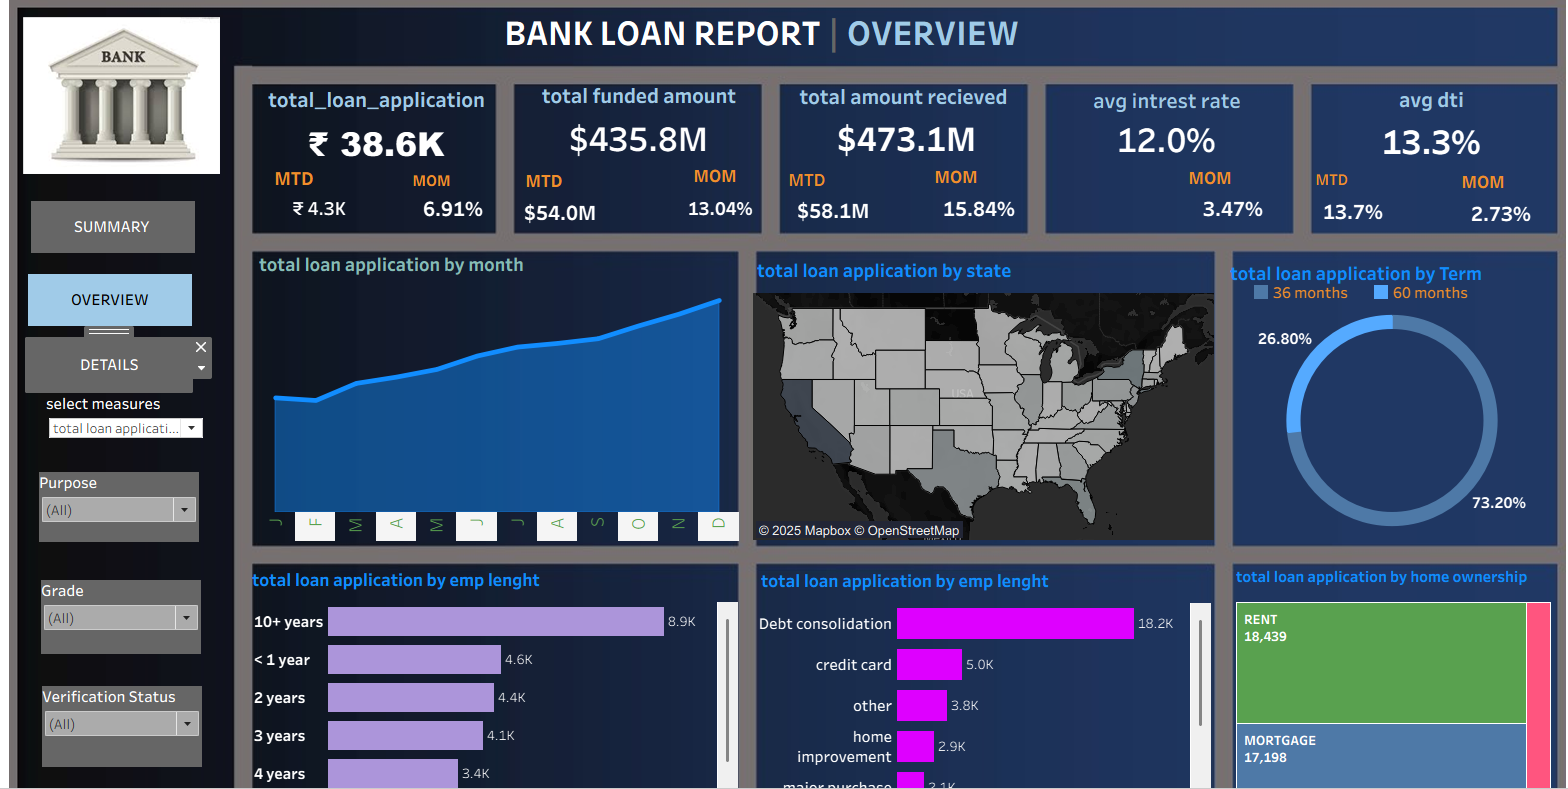

The page's visual inventory and layout, read from the dashboard file:
{"tool":"tableau","page":{"name":"OVERVIEW","canvas":[1600,900],"ordinal":1},"visuals":[{"type":"image","param":"C:/Users/HP/Downloads/Tableau Background 2.jpg","box":[8,8,1584,884]},{"type":"text","box":[513,23,541,45]},{"type":"image","param":"C:/Users/HP/AppData/Local/Temp/TableauTemp/1usxecd0y1ci5519p6f4o0lbw4ct/Sheets1/","box":[35,24,197,171]},{"type":"worksheet","title":"total funded amount","mark":"Automatic","box":[529,91,244,80]},{"type":"worksheet","title":"total amount recieved","mark":"Automatic","box":[792,92,247,79]},{"type":"worksheet","title":"total_loan_application","mark":"Automatic","box":[267,95,243,83]},{"type":"worksheet","title":"avg dti","mark":"Automatic","box":[1322,95,243,78]},{"type":"worksheet","title":"avg intrest rate","mark":"Automatic","box":[1054,96,250,72]},{"type":"text","box":[702,174,100,30]},{"type":"text","box":[943,175,100,30]},{"type":"text","box":[1197,176,100,30]},{"type":"text","box":[283,177,100,30]},{"type":"text","box":[797,178,100,30]},{"type":"text","box":[1324,178,100,30]},{"type":"text","box":[421,179,100,30]},{"type":"text","box":[534,179,100,30]},{"type":"text","box":[1470,180,100,30]},{"type":"worksheet","title":"MOM funded amount","mark":"Automatic","box":[696,202,73,41]},{"type":"worksheet","title":"MOM amount recieved","mark":"Automatic","box":[949,206,84,32]},{"type":"worksheet","title":"MTD loan application","mark":"Automatic","box":[288,207,86,31]},{"type":"worksheet","title":"MTD amount recieved","mark":"Automatic","box":[796,208,95,33]},{"type":"worksheet","title":"MTD avg DTI","mark":"Automatic","box":[1322,208,86,35]},{"type":"worksheet","title":"MOM loan application ","mark":"Automatic","box":[424,209,82,27]},{"type":"worksheet","title":"MOM avg int rate","mark":"Automatic","box":[1195,209,100,27]},{"type":"worksheet","title":"MOM avg dti","mark":"Automatic","box":[1466,210,94,35]},{"type":"worksheet","title":"MTD funded amount","mark":"Automatic","box":[527,212,92,28]},{"type":"dashboard-object","box":[43,215,164,52]},{"type":"worksheet","title":"MONTH","mark":"Area","rows":["Calculation_1095782142316924932","Calculation_1095782142316924932"],"cols":["issue_date"],"box":[267,261,484,294]},{"type":"worksheet","title":"state","mark":"Automatic","box":[765,267,461,287]},{"type":"worksheet","title":"Term","mark":"Pie","rows":["Calculation_1095782142329581574","Calculation_1095782142329581574"],"box":[1238,270,332,289]},{"type":"dashboard-object","box":[40,288,164,52]},{"type":"legend","title":"Term","param":"[federated.120kebf0at2c3s12benhf1fhnnxb].[none:term:nk]","box":[1263,296,263,28]},{"type":"dashboard-object","box":[39,353,164,52]},{"type":"parameter","param":"[Parameters].[Parameter 1]","box":[58,407,160,48]},{"type":"filter","title":"MOM amount recieved","param":"[federated.120kebf0at2c3s12benhf1fhnnxb].[none:purpose:nk]","box":[51,486,160,70]},{"type":"worksheet","title":"home own","mark":"Automatic","box":[1244,576,322,277]},{"type":"worksheet","title":"emp length","mark":"Automatic","rows":["emp_length"],"cols":["Calculation_1095782142316924932"],"box":[260,578,490,299]},{"type":"worksheet","title":"purpose","mark":"Automatic","rows":["purpose"],"cols":["Calculation_1095782142316924932"],"box":[769,579,454,301]},{"type":"filter","title":"MOM amount recieved","param":"[federated.120kebf0at2c3s12benhf1fhnnxb].[none:grade:nk]","box":[53,594,160,74]},{"type":"filter","title":"MOM amount recieved","param":"[federated.120kebf0at2c3s12benhf1fhnnxb].[none:verification_status:nk]","box":[54,700,160,81]}]}

Visuals, with their boxes on the page's 1600x900 design canvas (x1, y1, x2, y2). These are canvas units, not pixel positions in the 1568x789 screenshot, which may show the page scaled, cropped or inside an application window:
image: pyautogui.locateOnScreen(8, 8, 1592, 892)
text: pyautogui.locateOnScreen(513, 23, 1054, 68)
image: pyautogui.locateOnScreen(35, 24, 232, 195)
"total funded amount" worksheet: pyautogui.locateOnScreen(529, 91, 773, 171)
"total amount recieved" worksheet: pyautogui.locateOnScreen(792, 92, 1039, 171)
"total_loan_application" worksheet: pyautogui.locateOnScreen(267, 95, 510, 178)
"avg dti" worksheet: pyautogui.locateOnScreen(1322, 95, 1565, 173)
"avg intrest rate" worksheet: pyautogui.locateOnScreen(1054, 96, 1304, 168)
text: pyautogui.locateOnScreen(702, 174, 802, 204)
text: pyautogui.locateOnScreen(943, 175, 1043, 205)
text: pyautogui.locateOnScreen(1197, 176, 1297, 206)
text: pyautogui.locateOnScreen(283, 177, 383, 207)
text: pyautogui.locateOnScreen(797, 178, 897, 208)
text: pyautogui.locateOnScreen(1324, 178, 1424, 208)
text: pyautogui.locateOnScreen(421, 179, 521, 209)
text: pyautogui.locateOnScreen(534, 179, 634, 209)
text: pyautogui.locateOnScreen(1470, 180, 1570, 210)
"MOM funded amount" worksheet: pyautogui.locateOnScreen(696, 202, 769, 243)
"MOM amount recieved" worksheet: pyautogui.locateOnScreen(949, 206, 1033, 238)
"MTD loan application" worksheet: pyautogui.locateOnScreen(288, 207, 374, 238)
"MTD amount recieved" worksheet: pyautogui.locateOnScreen(796, 208, 891, 241)
"MTD avg DTI" worksheet: pyautogui.locateOnScreen(1322, 208, 1408, 243)
"MOM loan application " worksheet: pyautogui.locateOnScreen(424, 209, 506, 236)
"MOM avg int rate" worksheet: pyautogui.locateOnScreen(1195, 209, 1295, 236)
"MOM avg dti" worksheet: pyautogui.locateOnScreen(1466, 210, 1560, 245)
"MTD funded amount" worksheet: pyautogui.locateOnScreen(527, 212, 619, 240)
dashboard-object: pyautogui.locateOnScreen(43, 215, 207, 267)
"MONTH" worksheet (Area marks): pyautogui.locateOnScreen(267, 261, 751, 555)
"state" worksheet: pyautogui.locateOnScreen(765, 267, 1226, 554)
"Term" worksheet (Pie marks): pyautogui.locateOnScreen(1238, 270, 1570, 559)
dashboard-object: pyautogui.locateOnScreen(40, 288, 204, 340)
"Term" legend: pyautogui.locateOnScreen(1263, 296, 1526, 324)
dashboard-object: pyautogui.locateOnScreen(39, 353, 203, 405)
parameter: pyautogui.locateOnScreen(58, 407, 218, 455)
"MOM amount recieved" filter: pyautogui.locateOnScreen(51, 486, 211, 556)
"home own" worksheet: pyautogui.locateOnScreen(1244, 576, 1566, 853)
"emp length" worksheet: pyautogui.locateOnScreen(260, 578, 750, 877)
"purpose" worksheet: pyautogui.locateOnScreen(769, 579, 1223, 880)
"MOM amount recieved" filter: pyautogui.locateOnScreen(53, 594, 213, 668)
"MOM amount recieved" filter: pyautogui.locateOnScreen(54, 700, 214, 781)
